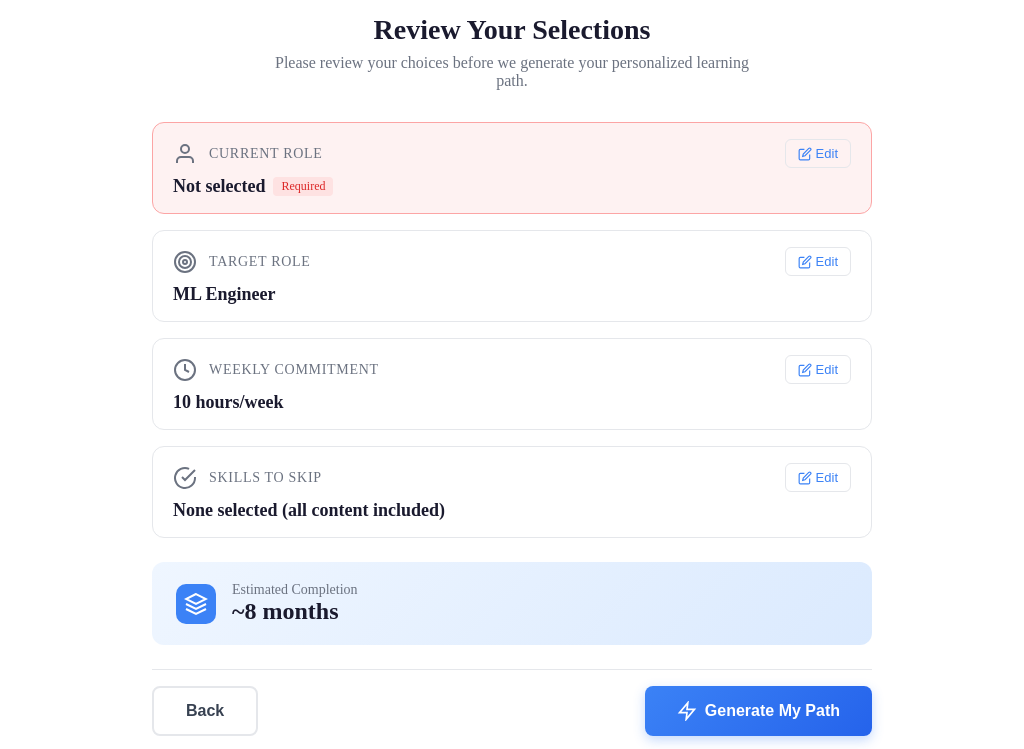
Scenario: Step5Summary Component › Validation › should show validation error when required data is missing
(page scrolled)
Click the button with test id "generate-path-button" at (758, 711), box [645,686,872,736]
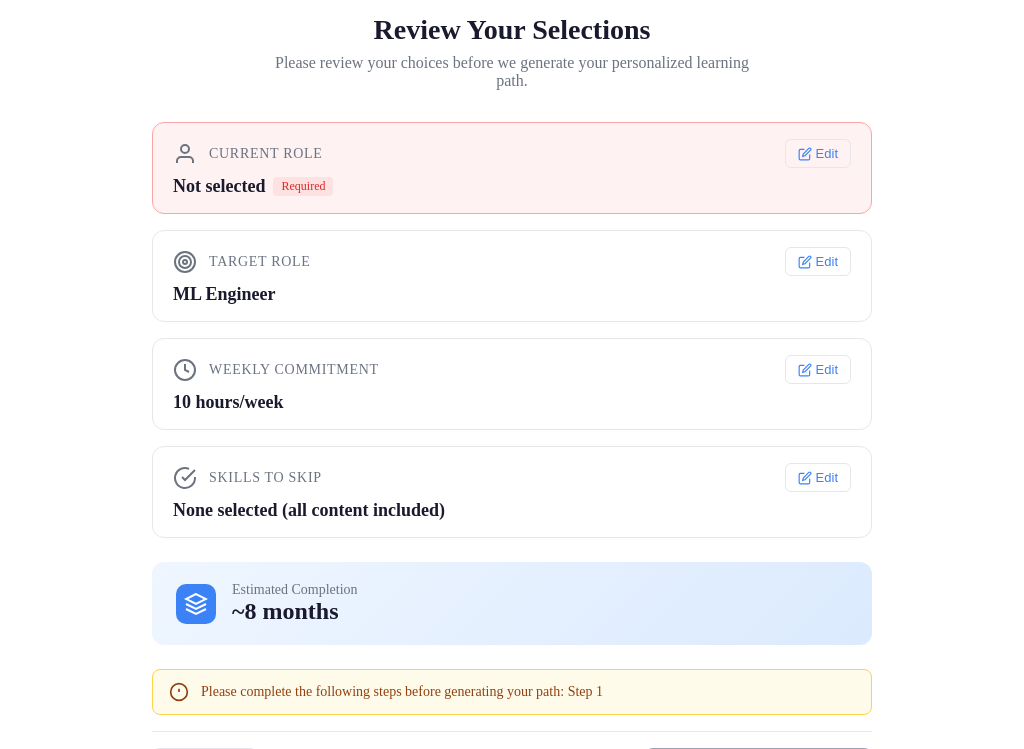
Expected: the message "Please complete the following steps before generating your path: Step 1" is shown, [152,669,872,715]
Expected: the text "Please complete the following steps" is shown, [201,684,564,699]
